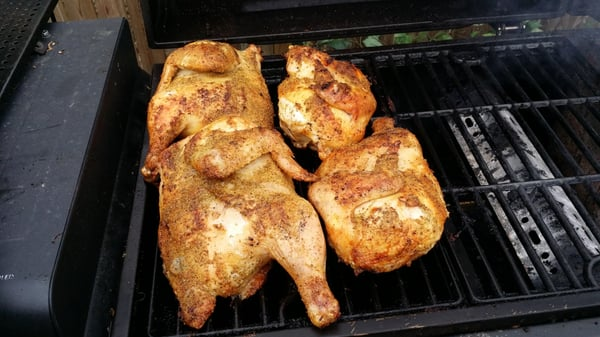burger: (1, 0, 568, 337)
sandwich: (141, 40, 341, 329)
